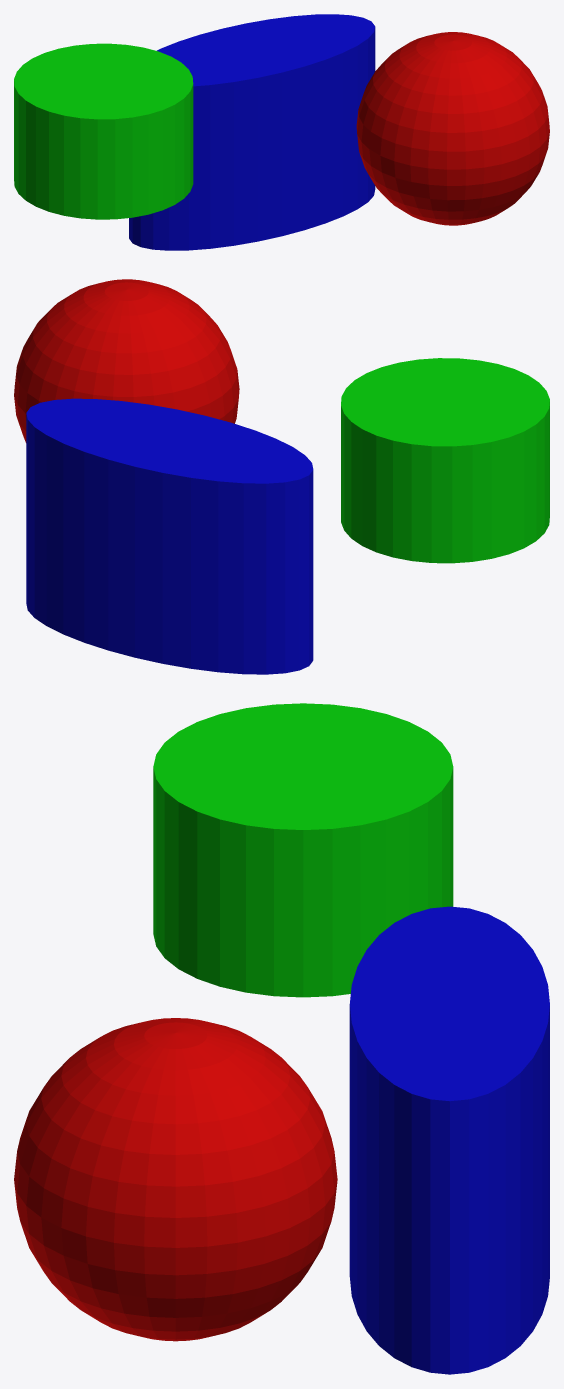
Rendered from minicargador_boton3_derecho.obj.
The picture shows the model from 3 angles, top to bottom: view 1: azimuth 30°, elevation 25°; view 2: azimuth 150°, elevation 25°; view 3: azimuth 270°, elevation 25°; orthographic projection. The views are drawn at different scales.
Visible parts, largest first — view 1: Cilindro.009, Esfera.001, Cilindro.013; view 2: Cilindro.009, Cilindro.013, Esfera.001; view 3: Cilindro.009, Esfera.001, Cilindro.013.
Part boxes in pixels (box(x1,y1,x2,y2)): Cilindro.009: box(129, 14, 375, 250); Esfera.001: box(356, 32, 549, 225); Cilindro.013: box(14, 43, 193, 219); Cilindro.009: box(26, 398, 313, 674); Cilindro.013: box(341, 358, 549, 563); Esfera.001: box(14, 279, 239, 442); Cilindro.009: box(349, 906, 549, 1374); Esfera.001: box(14, 1018, 337, 1341); Cilindro.013: box(153, 703, 453, 997).
Bounding box in the file's own units: 0.8794 × 0.3763 × 0.5167.
